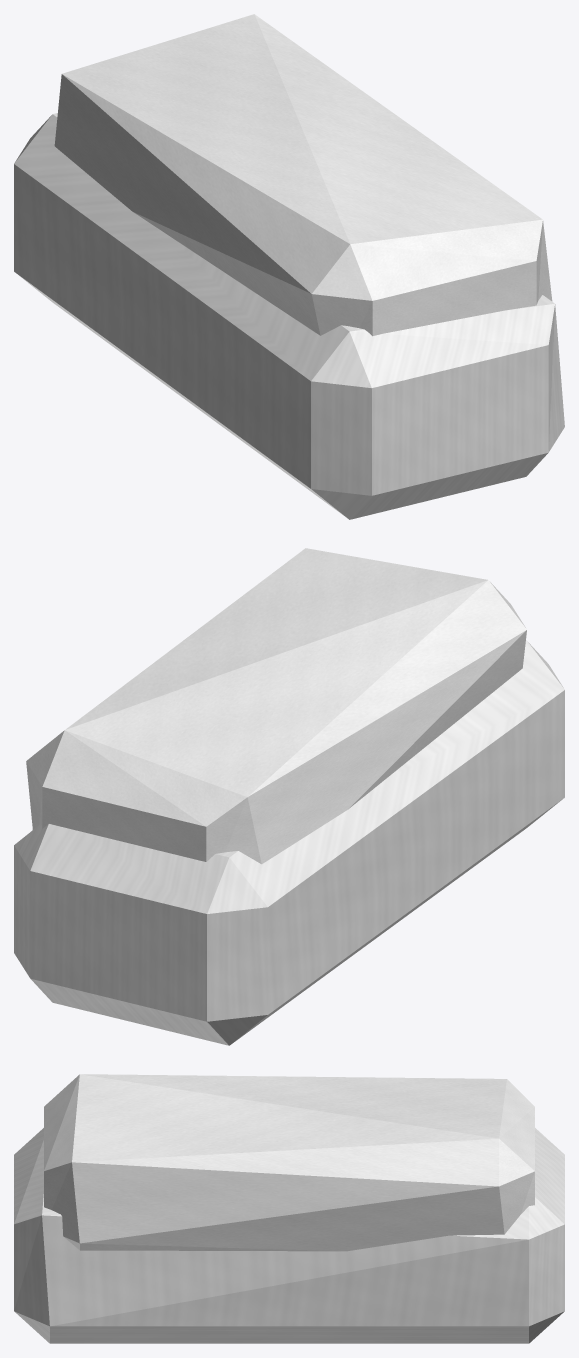
Rendered from Field_Medic_Forearm_Guard_R_LOD2.glb.
3 views of the same model, one above another, from view 1: azimuth 30°, elevation 25°; view 2: azimuth 150°, elevation 25°; view 3: azimuth 270°, elevation 25° (orthographic). The views are drawn at different scales.
Parts seen in each view (by area): view 1: Field_Medic_Forearm_Guard_R_LOD2; view 2: Field_Medic_Forearm_Guard_R_LOD2; view 3: Field_Medic_Forearm_Guard_R_LOD2.
Part boxes in pixels (x1=…): Field_Medic_Forearm_Guard_R_LOD2: x1=14, y1=14, x2=564, y2=519; Field_Medic_Forearm_Guard_R_LOD2: x1=14, y1=548, x2=564, y2=1045; Field_Medic_Forearm_Guard_R_LOD2: x1=14, y1=1074, x2=564, y2=1343.
Size of the model in its own units: 0.081 by 0.0765 by 0.184.
2 materials, 2 textured.
